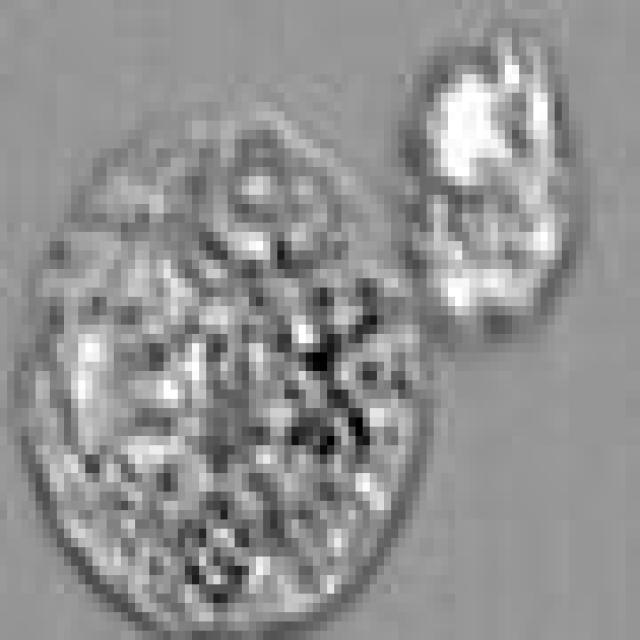Cancer Cell: (14, 93, 441, 640)
WBC: (405, 18, 583, 334)
